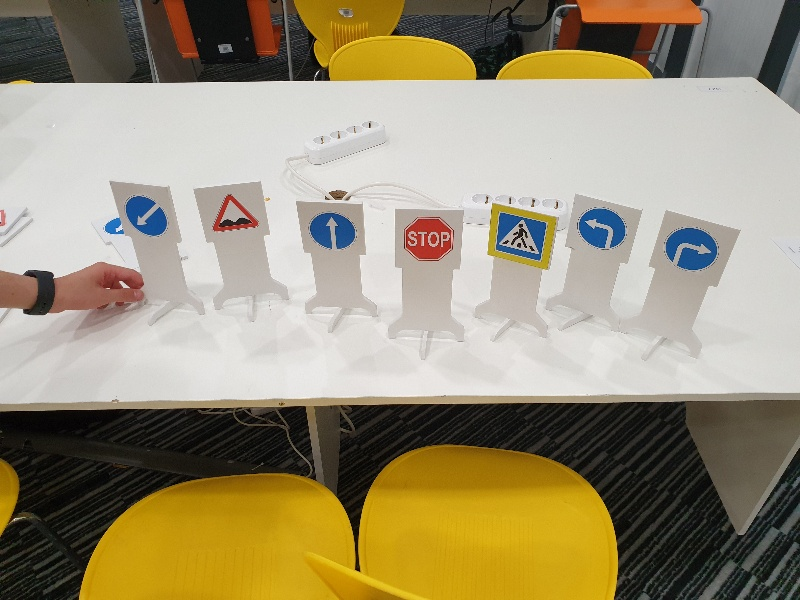Left: (575, 202, 628, 255)
Nerov: (210, 190, 260, 235)
Right: (661, 221, 721, 275)
Stop: (399, 214, 455, 262)
forw: (307, 208, 359, 251)
pesh: (494, 210, 547, 263)
prep: (123, 192, 173, 237)
